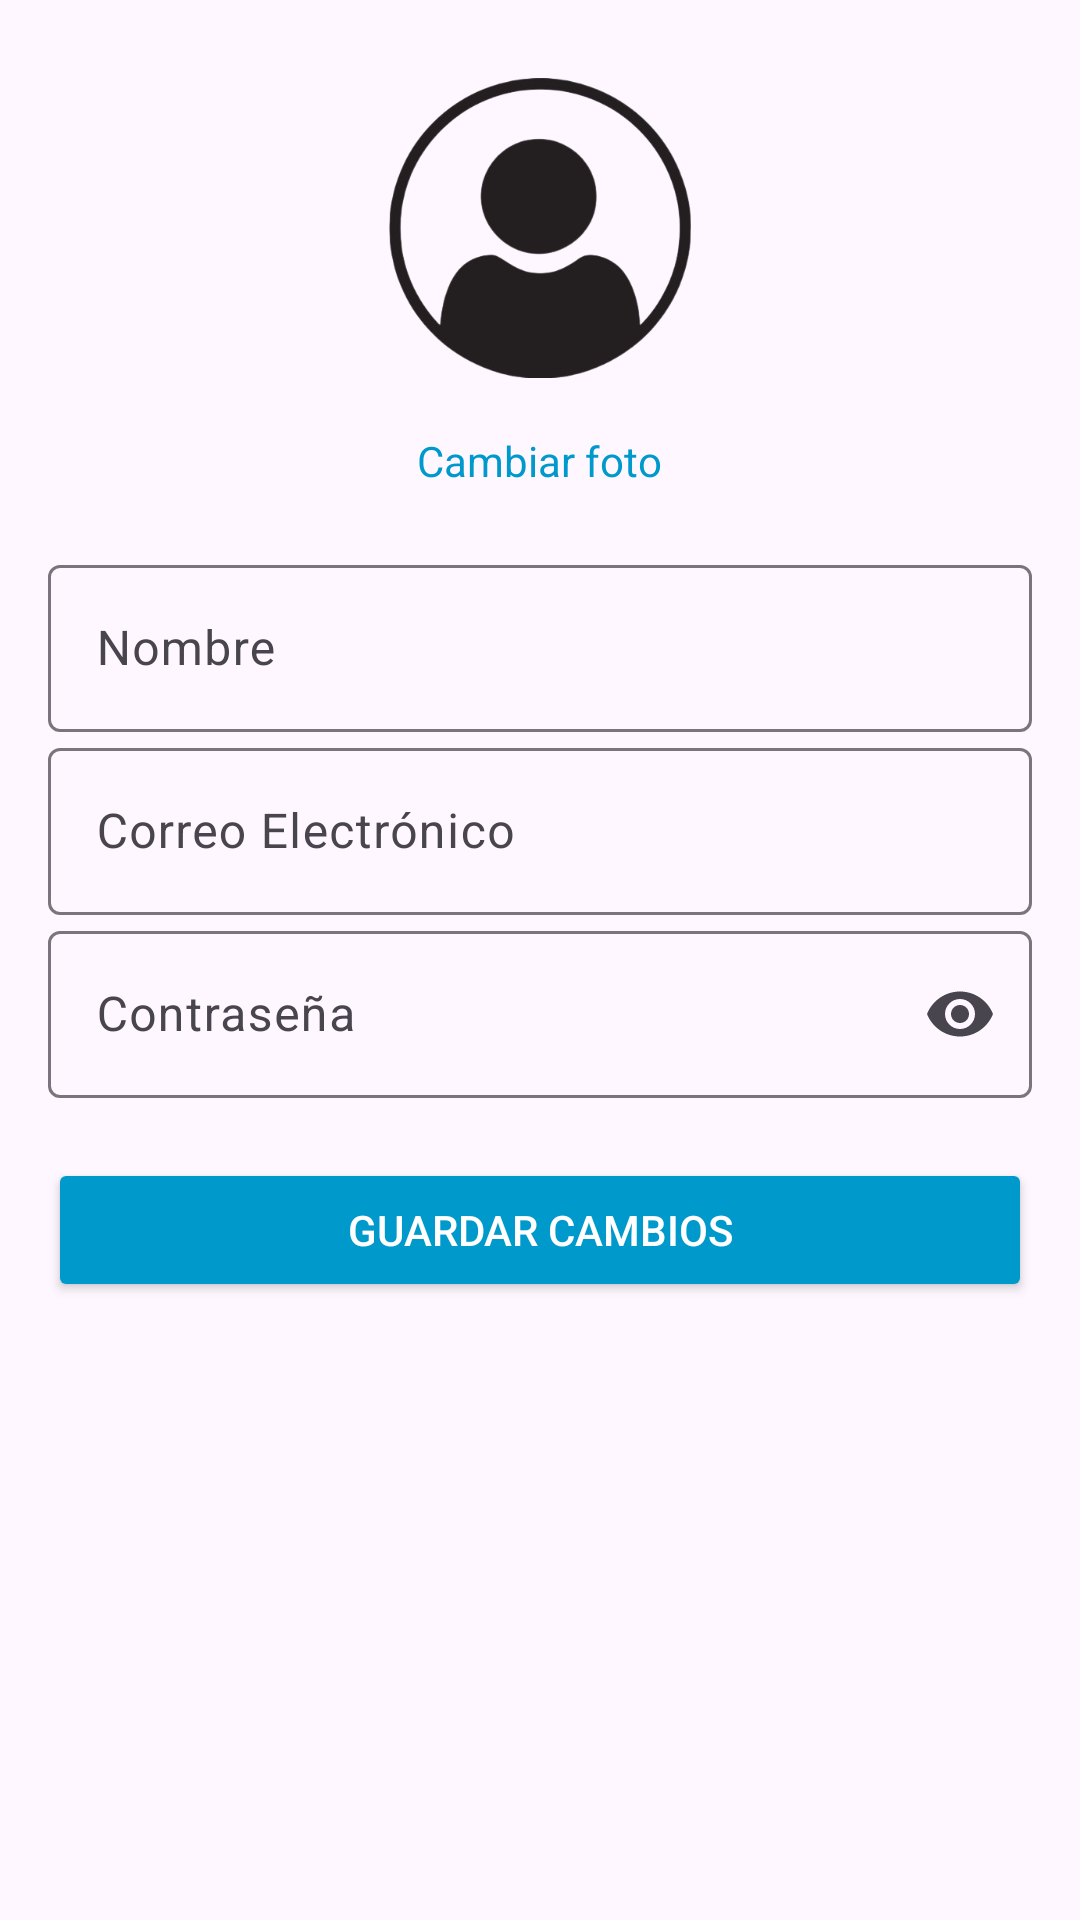

Point at icon controls on the screen. Image size 1080*1920, points as (x,y).
person: (540,228)
